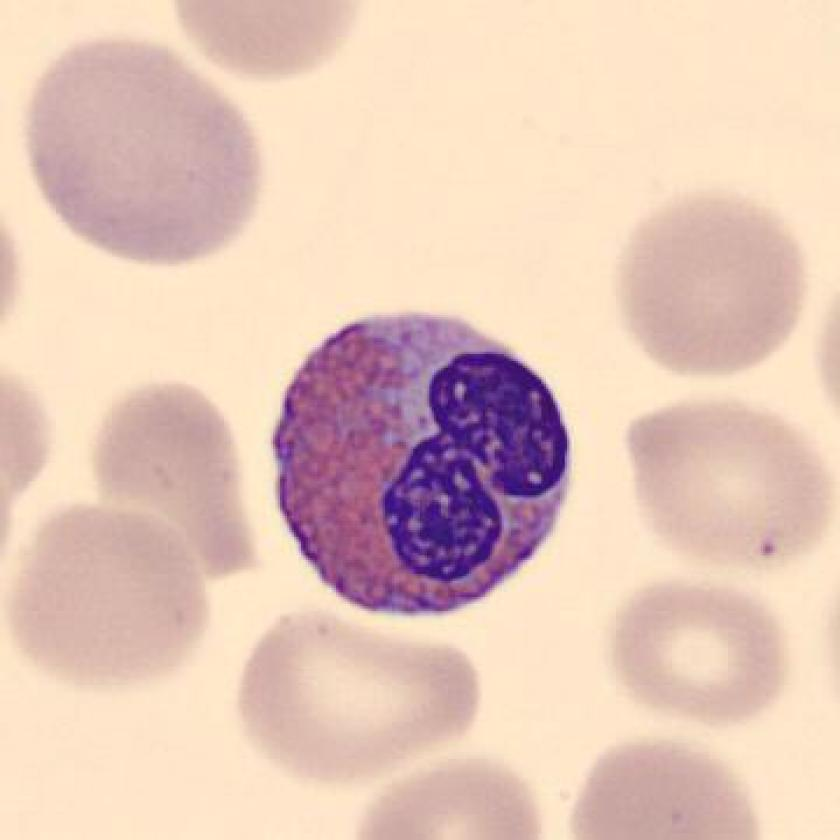eosinophil: (255, 288, 587, 630)
